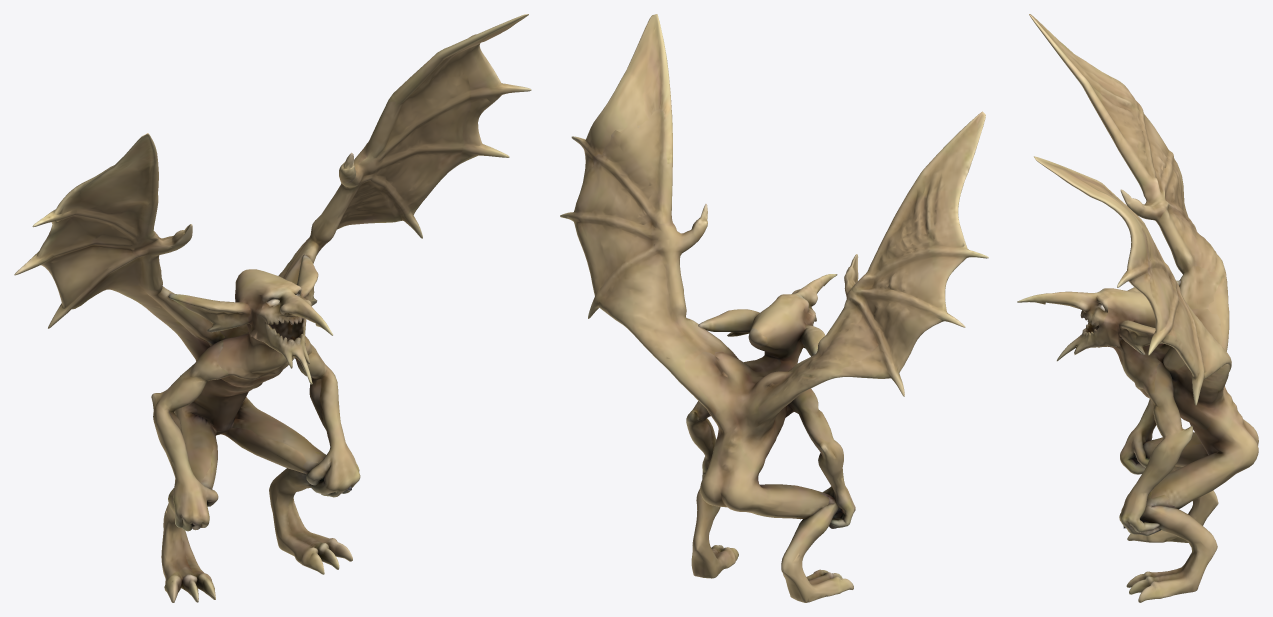
The model's file is MZ4250 - Dust Mephit_2 2025.glb.
3 renders of one model, left to right at view 1: azimuth 30°, elevation 25°; view 2: azimuth 150°, elevation 25°; view 3: azimuth 270°, elevation 25°, orthographic. The views are drawn at different scales.
Visible parts, largest first — view 1: Cylinder.001; view 2: Cylinder.001; view 3: Cylinder.001.
Part boxes in pixels (x1,y1,x2,y2): Cylinder.001: (14,14,531,602); Cylinder.001: (560,14,988,602); Cylinder.001: (1017,14,1258,602).
Size of the model in its own units: 97.43 by 106 by 46.87.
1 material, 1 textured.
